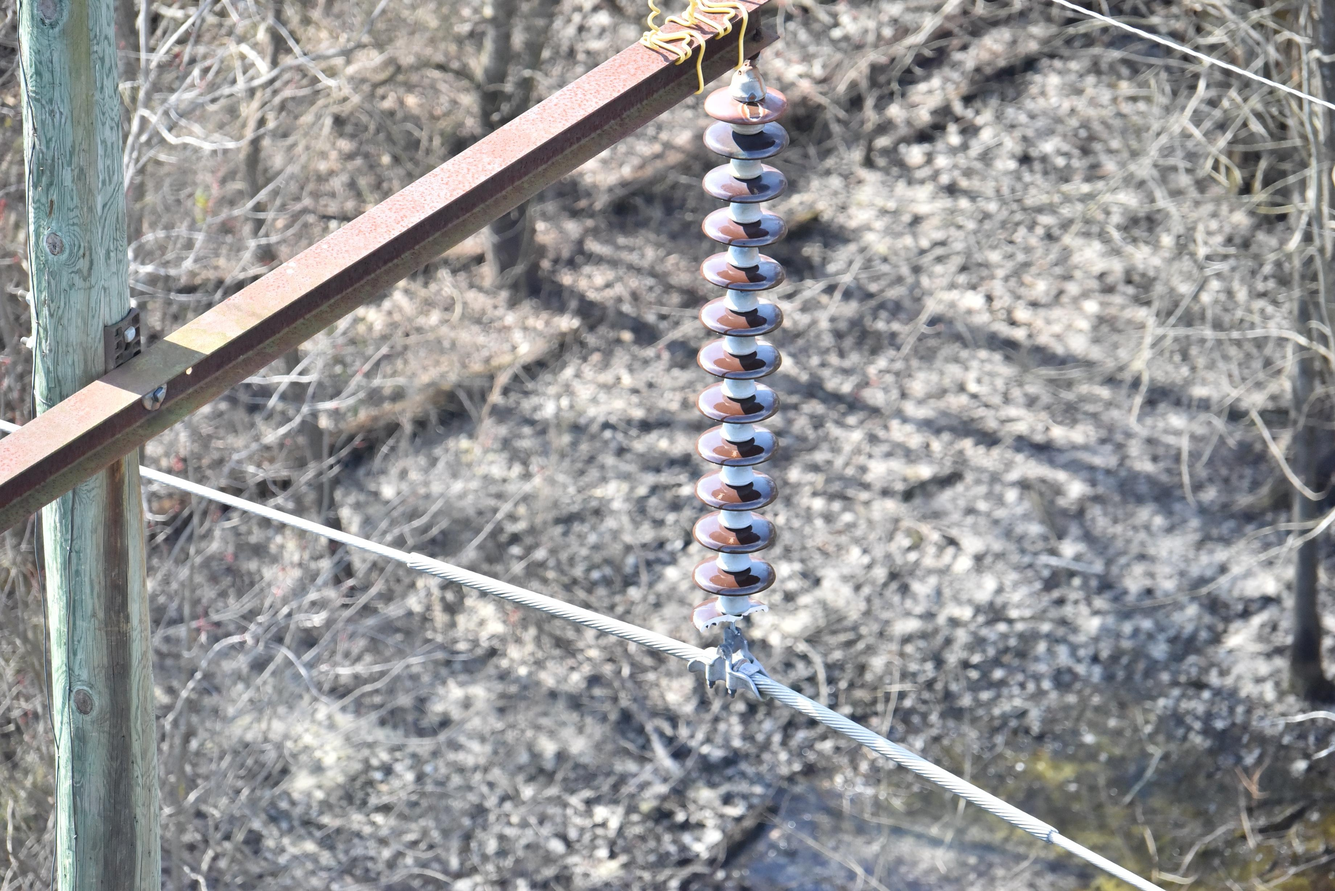Flashover: (738, 90, 766, 123)
damaged: (698, 600, 770, 634)
insulator: (689, 80, 788, 643)
